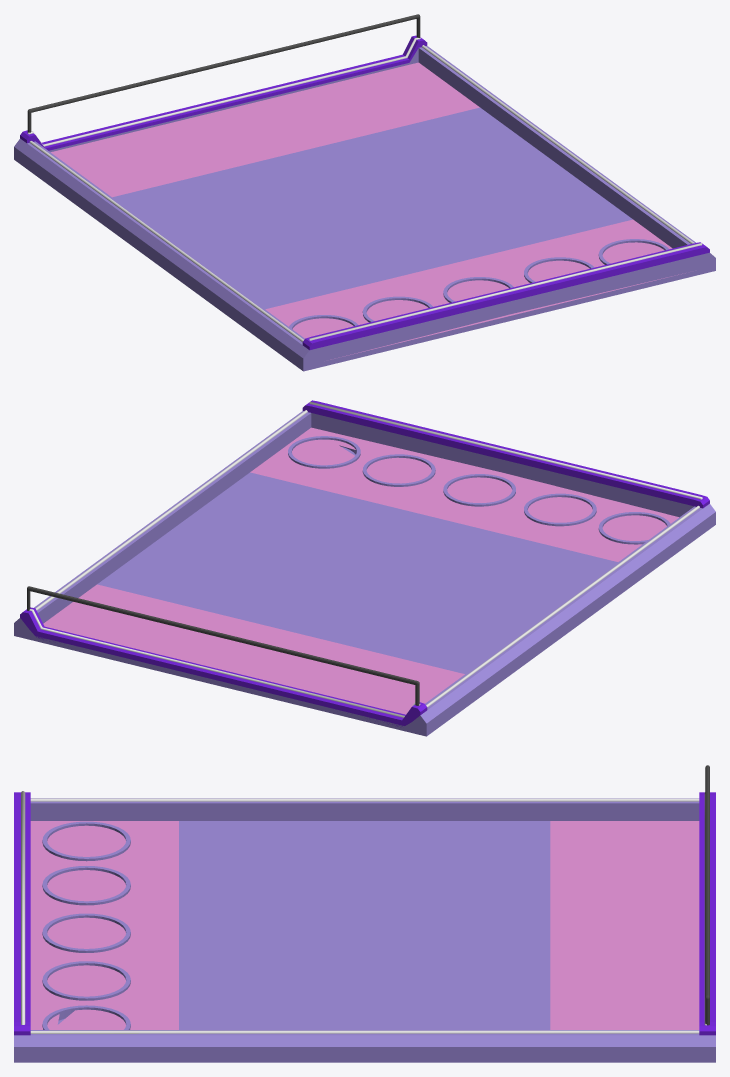
Rendered from Platform 3 Hole 5.fbx.
3 renders of one model, top to bottom at view 1: azimuth 30°, elevation 25°; view 2: azimuth 150°, elevation 25°; view 3: azimuth 270°, elevation 25°, orthographic. The views are drawn at different scales.
Visible parts, largest first — view 1: 5HolePlatform-2; view 2: 5HolePlatform-2; view 3: 5HolePlatform-2.
Part boxes in pixels (box(x1,y1,x2,y2)): 5HolePlatform-2: box(14, 14, 715, 371); 5HolePlatform-2: box(14, 400, 715, 736); 5HolePlatform-2: box(14, 765, 715, 1062).
Size of the model in its own units: 2504 by 289 by 3043.
